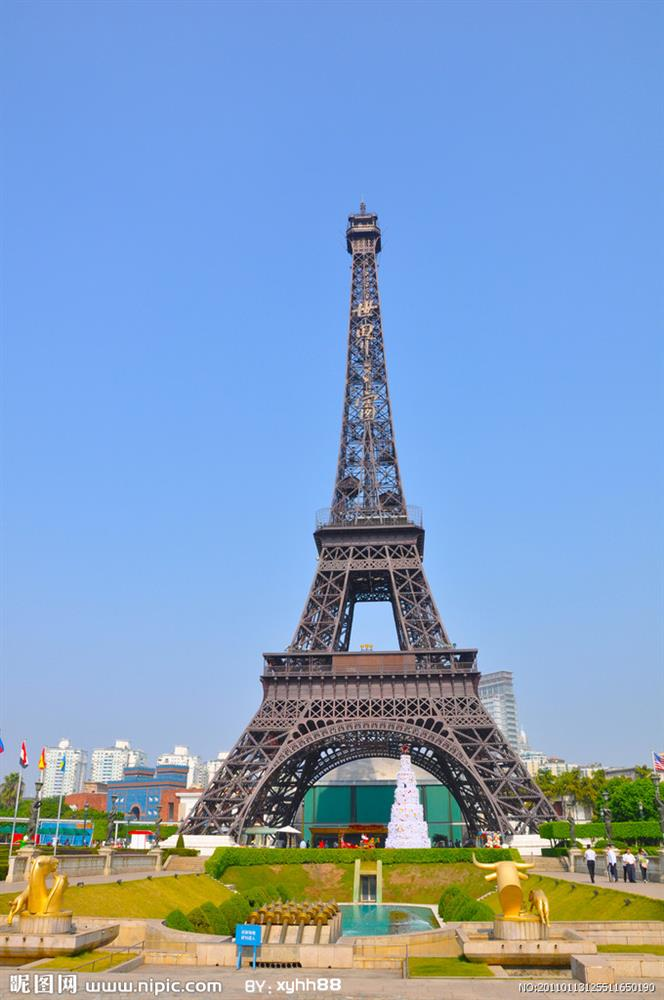Eiffel: (217, 198, 553, 836)
